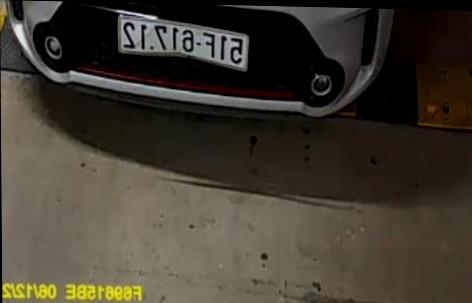License_Plate: (113, 14, 252, 74)
